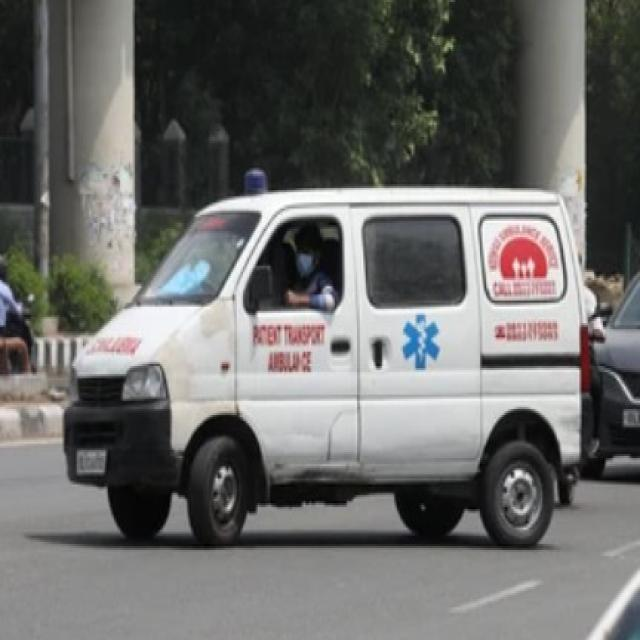Ambulance: (399, 310, 441, 374)
